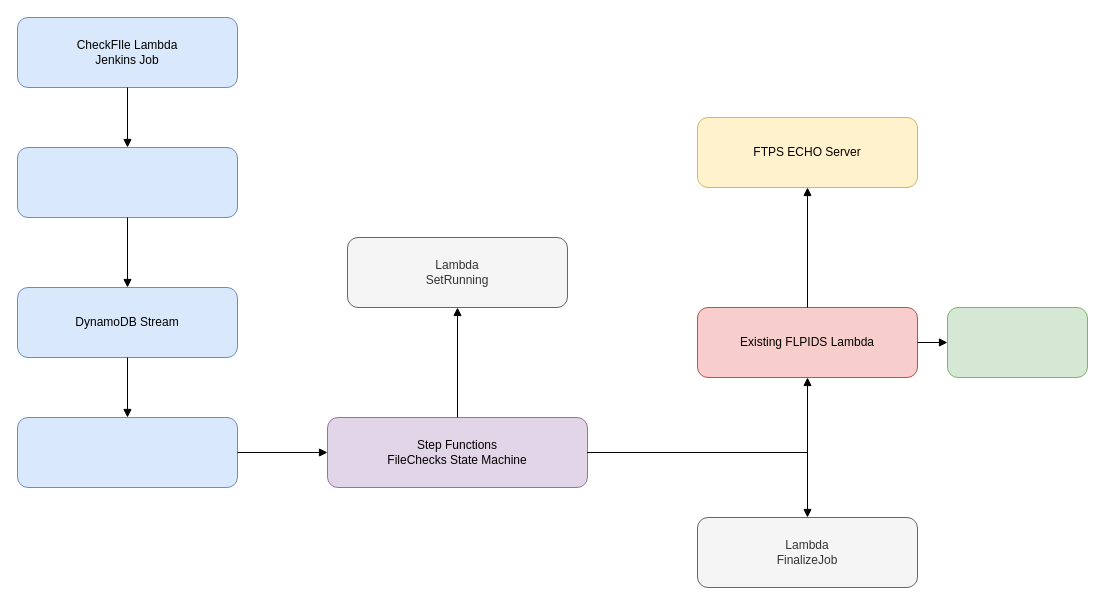
Some shapes in this 1105 by 605 pixel diagram are drawn without their labels. The shapes that lost their labels are listed below. From the top down, each one's centre as x and y in pixels, then its label:
(127,182): DynamoDB FSA-FileChecks
(1017,342): S3/Processing
(127,452): EventBridge Pipe
